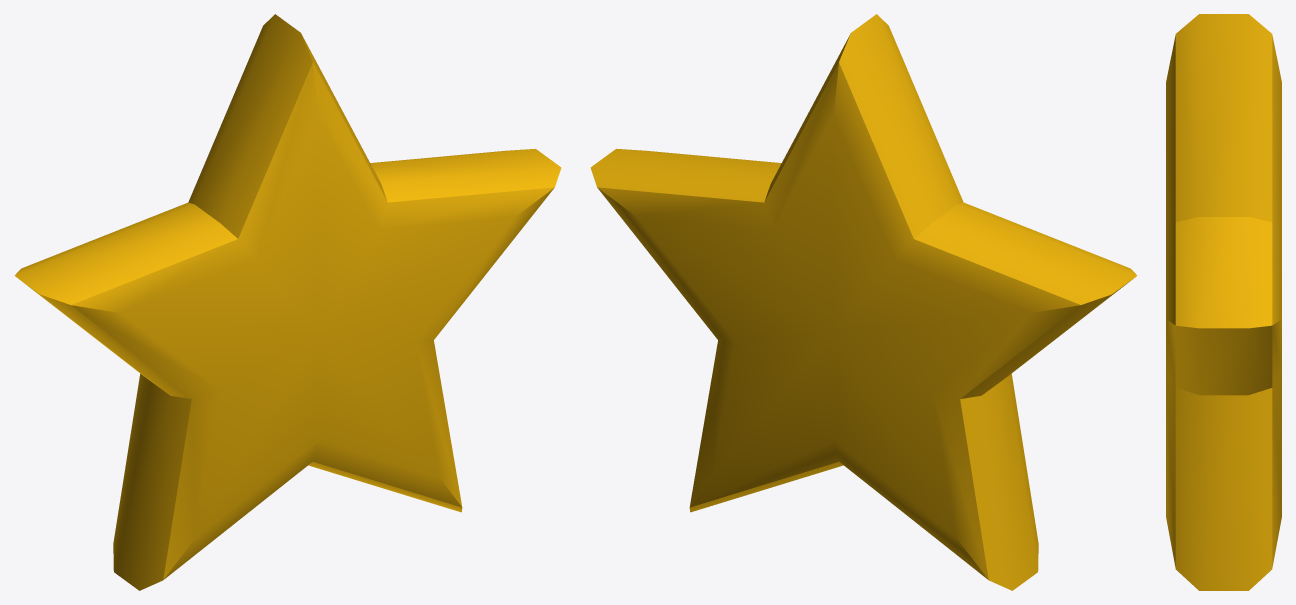
Rendered from star.fbx.
3 renders of one model, left to right at view 1: azimuth 30°, elevation 25°; view 2: azimuth 150°, elevation 25°; view 3: azimuth 270°, elevation 25°, orthographic. The views are drawn at different scales.
Parts seen in each view (by area): view 1: star; view 2: star; view 3: star.
Boxes of the visible parts, x1,y1,x2,y2 form: star: [14, 14, 561, 590]; star: [590, 14, 1137, 590]; star: [1166, 14, 1281, 590].
Size of the model in its own units: 61.08 by 58.1 by 12.16.
